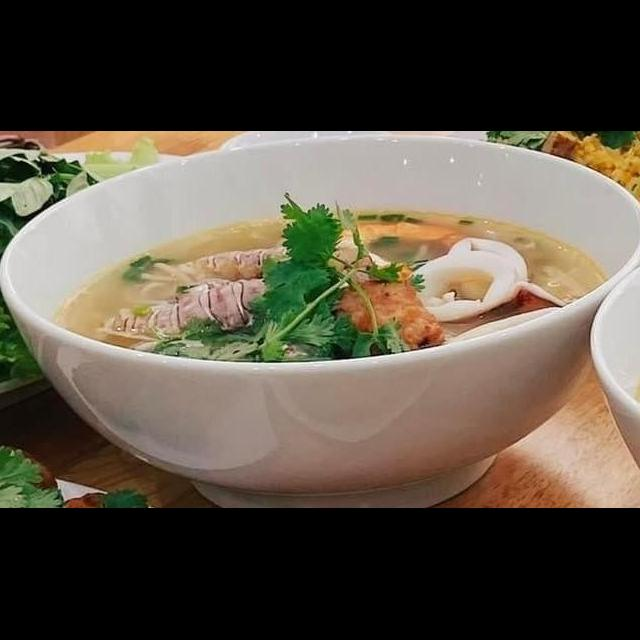muc: (402, 248, 570, 338), (444, 235, 534, 292)
tom: (316, 214, 471, 292)
tom tit: (96, 272, 290, 346), (158, 242, 306, 288)
